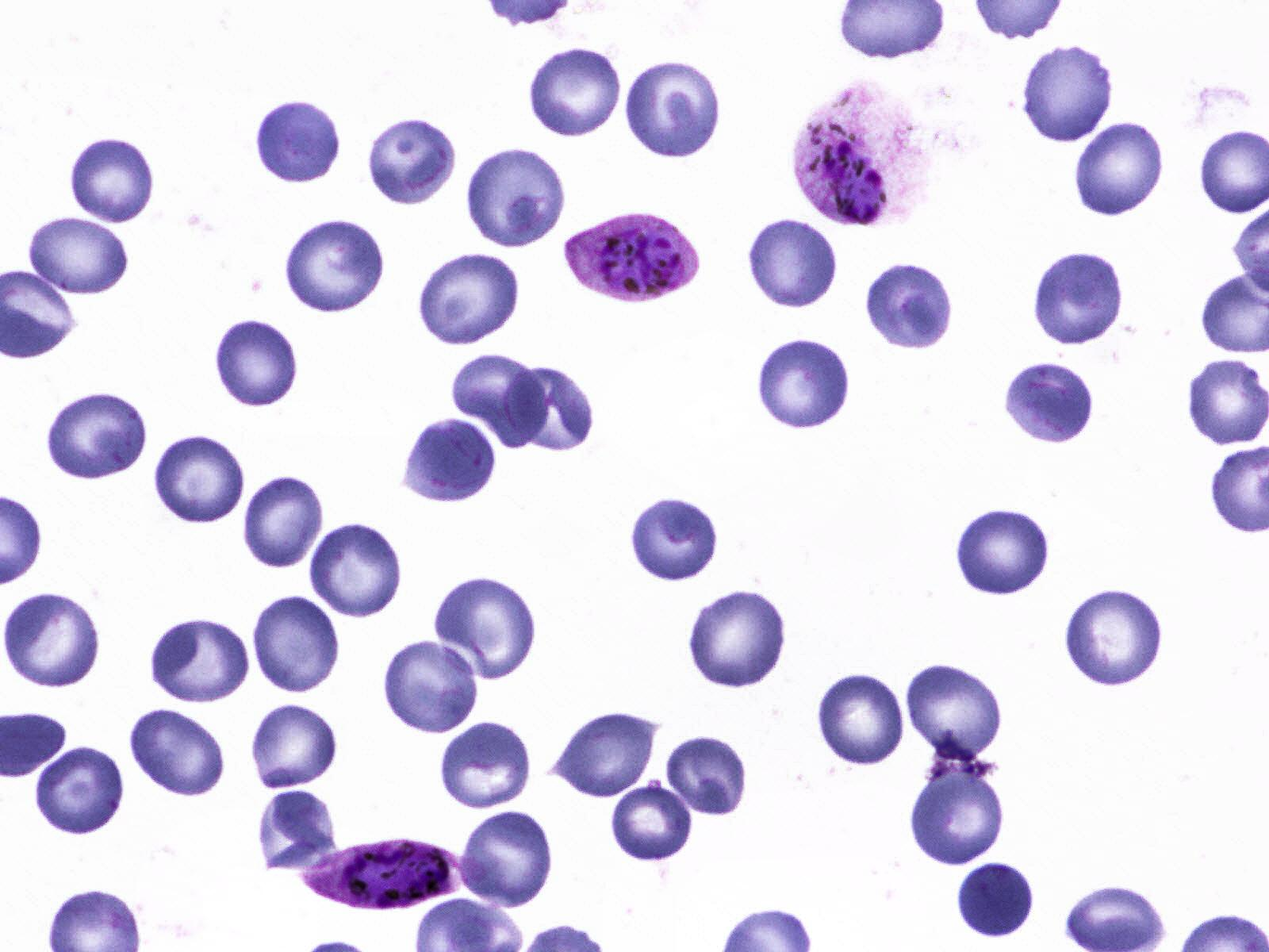Infected: (792, 83, 938, 225), (303, 832, 493, 916), (565, 200, 711, 305)
Uninfected: (435, 577, 548, 678), (280, 215, 394, 314), (910, 656, 1006, 768), (1072, 115, 1170, 224), (451, 348, 551, 451), (451, 812, 562, 904), (693, 590, 793, 692), (903, 766, 1005, 866), (622, 58, 722, 157), (146, 610, 254, 700), (42, 392, 152, 480), (1025, 39, 1116, 145), (953, 505, 1060, 595), (387, 634, 485, 731), (306, 521, 403, 619), (1068, 590, 1167, 686), (124, 705, 227, 797), (468, 151, 565, 247), (756, 336, 852, 432), (25, 215, 132, 301), (1033, 248, 1125, 347), (526, 45, 620, 140), (504, 359, 602, 450), (252, 595, 338, 698), (213, 314, 309, 406), (5, 593, 94, 690), (366, 113, 458, 206), (813, 674, 904, 767), (750, 211, 834, 311), (241, 474, 327, 571), (558, 716, 663, 795), (631, 493, 722, 583), (435, 716, 527, 805), (152, 434, 244, 521), (34, 743, 121, 835), (426, 264, 526, 344), (70, 136, 160, 224), (408, 420, 502, 504), (860, 266, 953, 350), (252, 99, 343, 182), (252, 708, 342, 789), (243, 793, 336, 871), (608, 780, 695, 863), (666, 734, 753, 816), (1002, 361, 1094, 438), (1187, 360, 1269, 445), (960, 864, 1034, 937)
